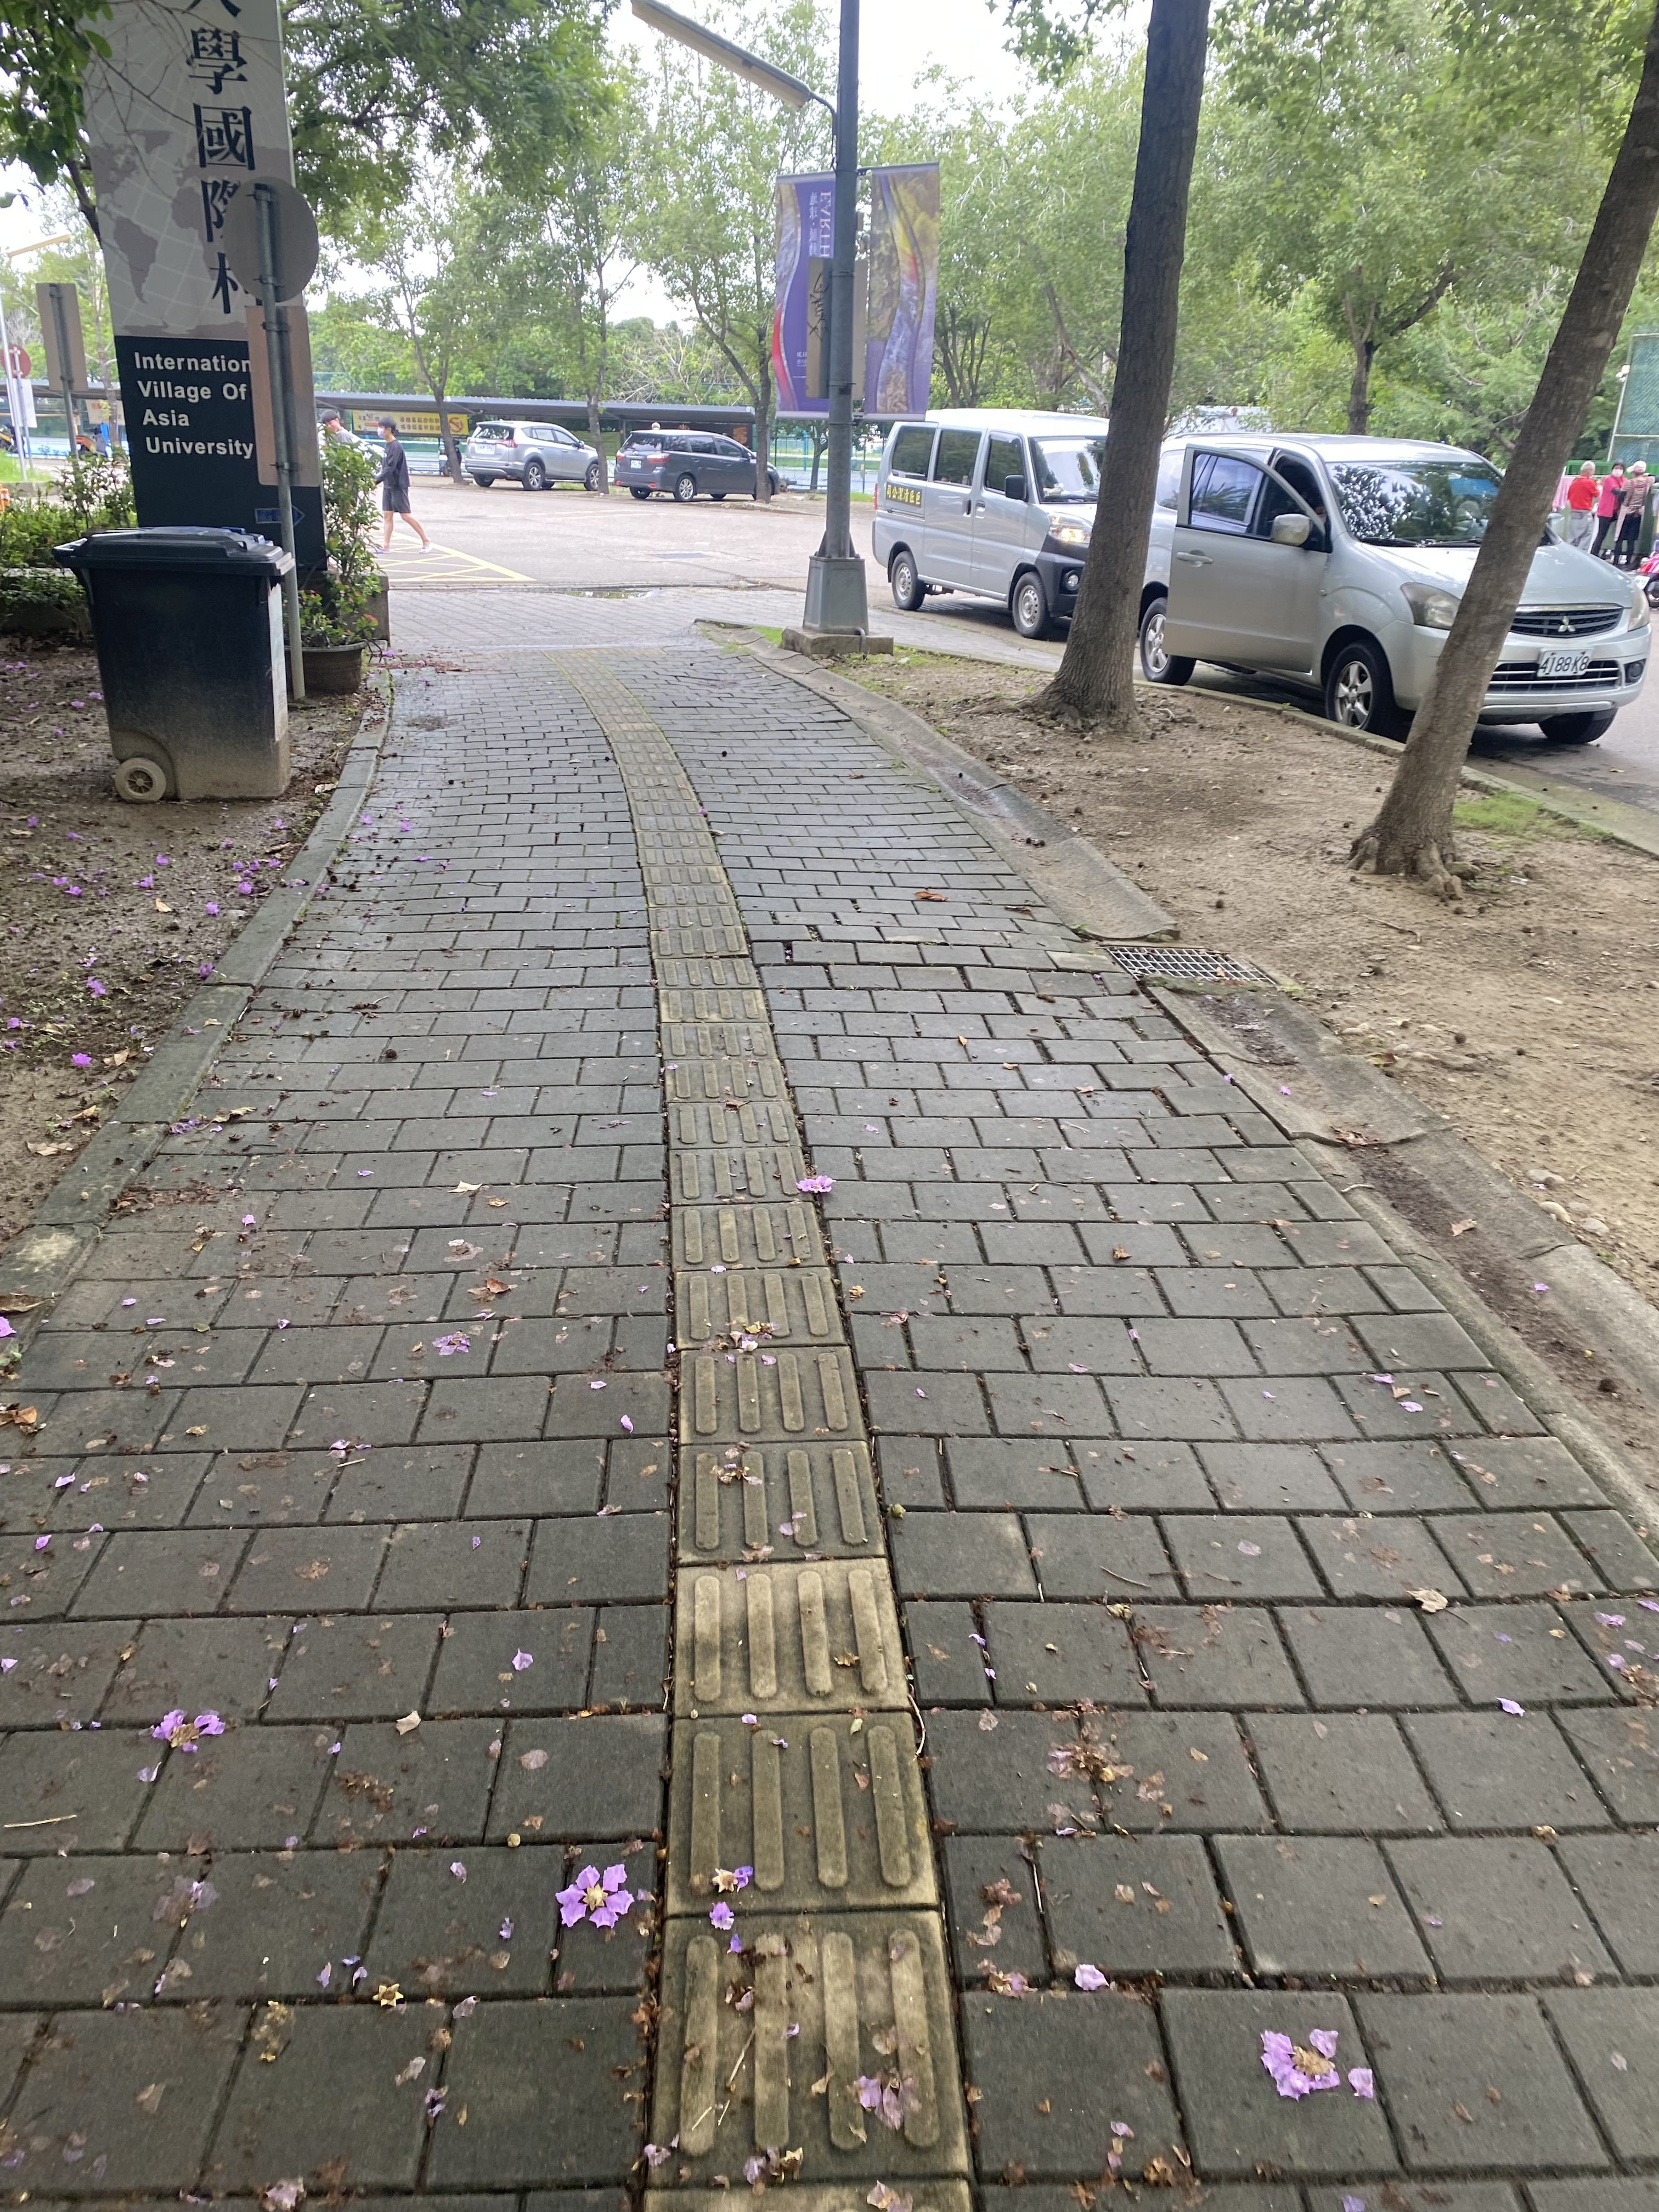sidewalk: (0, 564, 1659, 2212)
